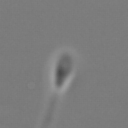normal: (36, 92, 64, 128)
